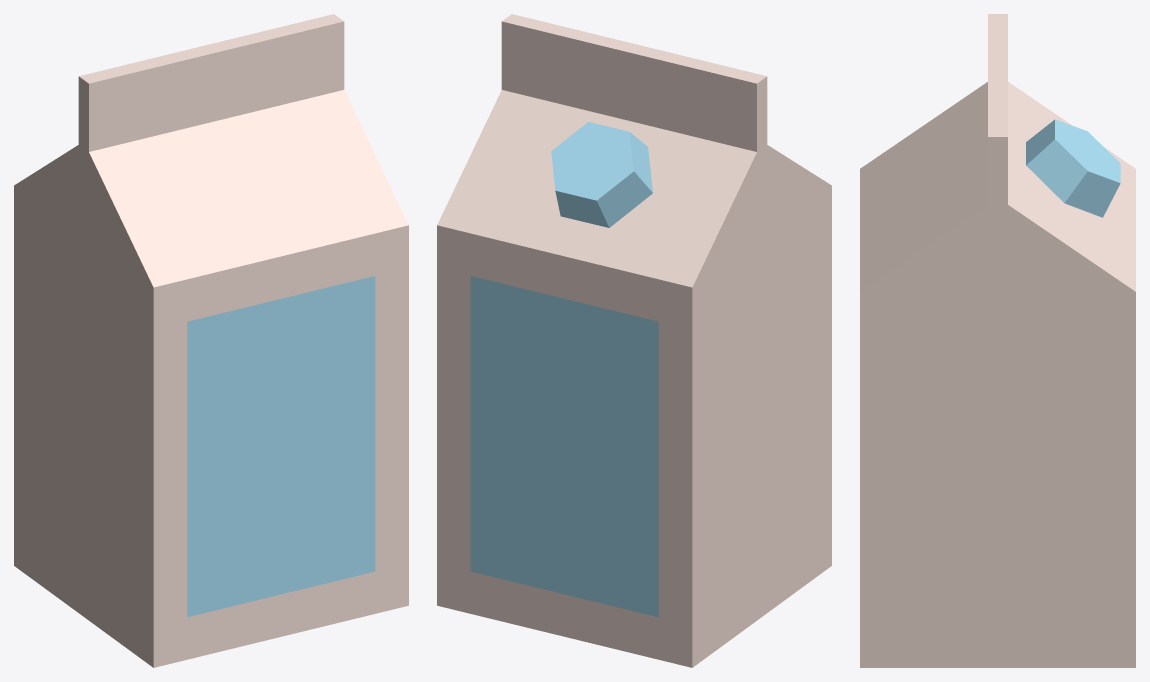
Rendered from Milk_geo.fbx.
3 views of the same model, side by side, from view 1: azimuth 30°, elevation 25°; view 2: azimuth 150°, elevation 25°; view 3: azimuth 270°, elevation 25° (orthographic).
Visible parts, largest first — view 1: Milk_geo; view 2: Milk_geo; view 3: Milk_geo.
Part boxes in pixels (bbox=[...]): Milk_geo: bbox=[14, 14, 408, 667]; Milk_geo: bbox=[437, 14, 831, 667]; Milk_geo: bbox=[860, 14, 1135, 667].
Bounding box in the file's own units: 0.2505 × 0.237 × 0.5035.
